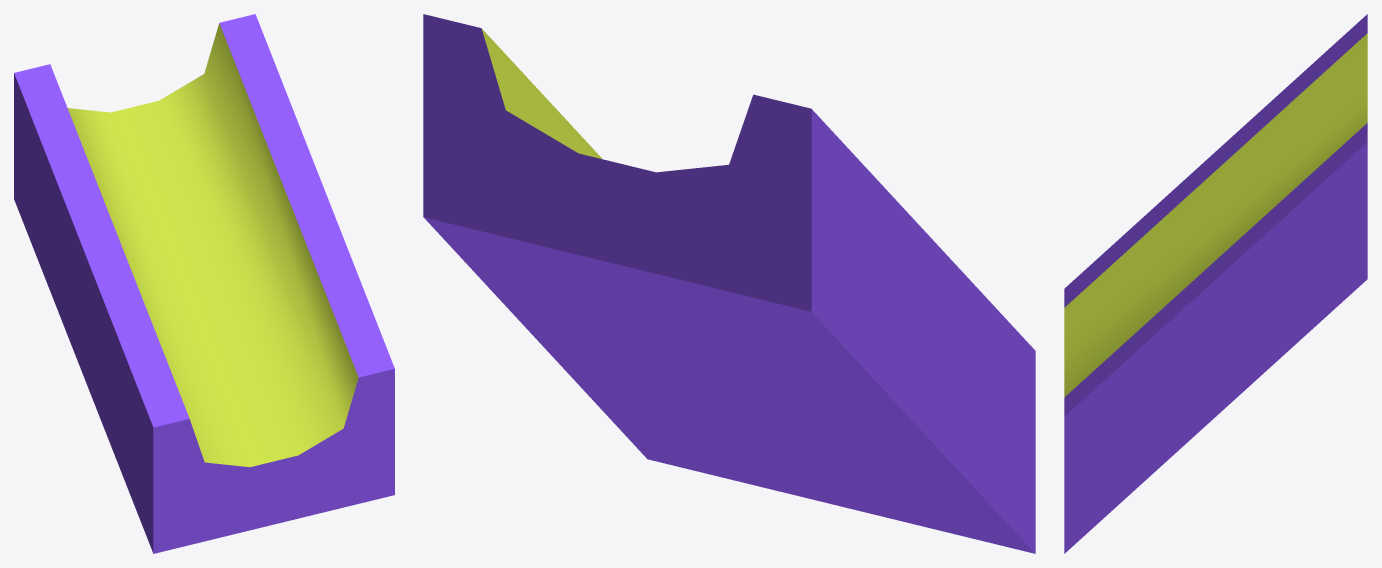
Rendered from slant_C.glb.
The picture shows the model from 3 angles, left to right: view 1: azimuth 30°, elevation 25°; view 2: azimuth 150°, elevation 25°; view 3: azimuth 270°, elevation 25°; orthographic projection. The views are drawn at different scales.
Visible parts, largest first — view 1: slant_C; view 2: slant_C; view 3: slant_C.
Boxes of the visible parts, <box> form: slant_C: <box>14,14,394,553</box>; slant_C: <box>423,14,1035,553</box>; slant_C: <box>1064,14,1367,553</box>.
Size of the model in its own units: 1 by 1.5 by 1.
